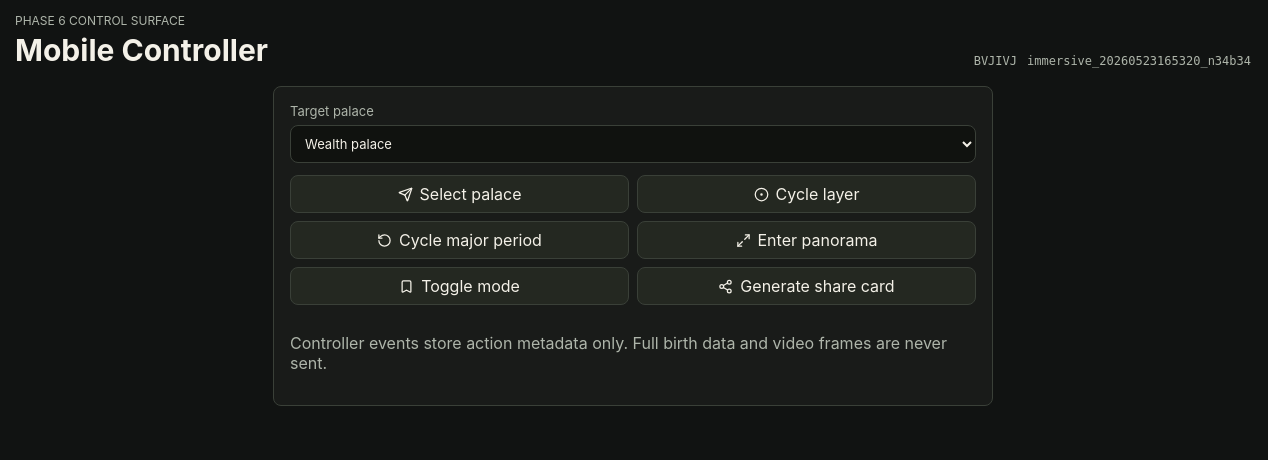
phase 6 immersive UI components › mobile controller sends stage events with a selected palace and fallback buttons
Select "Wealth palace" in the dropdown labelled "Target palace". click: (633, 144)
box: [290,125,976,163]
Click the button "Select palace". click: (460, 194)
box: [290,175,629,213]
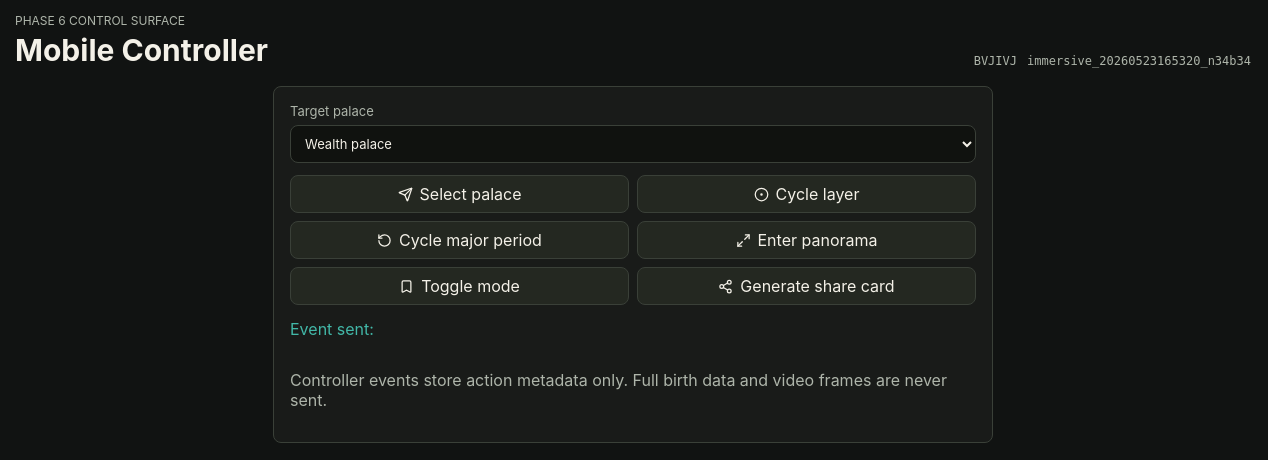
Result: the text "Event sent:" is shown at [290,319,374,339]
